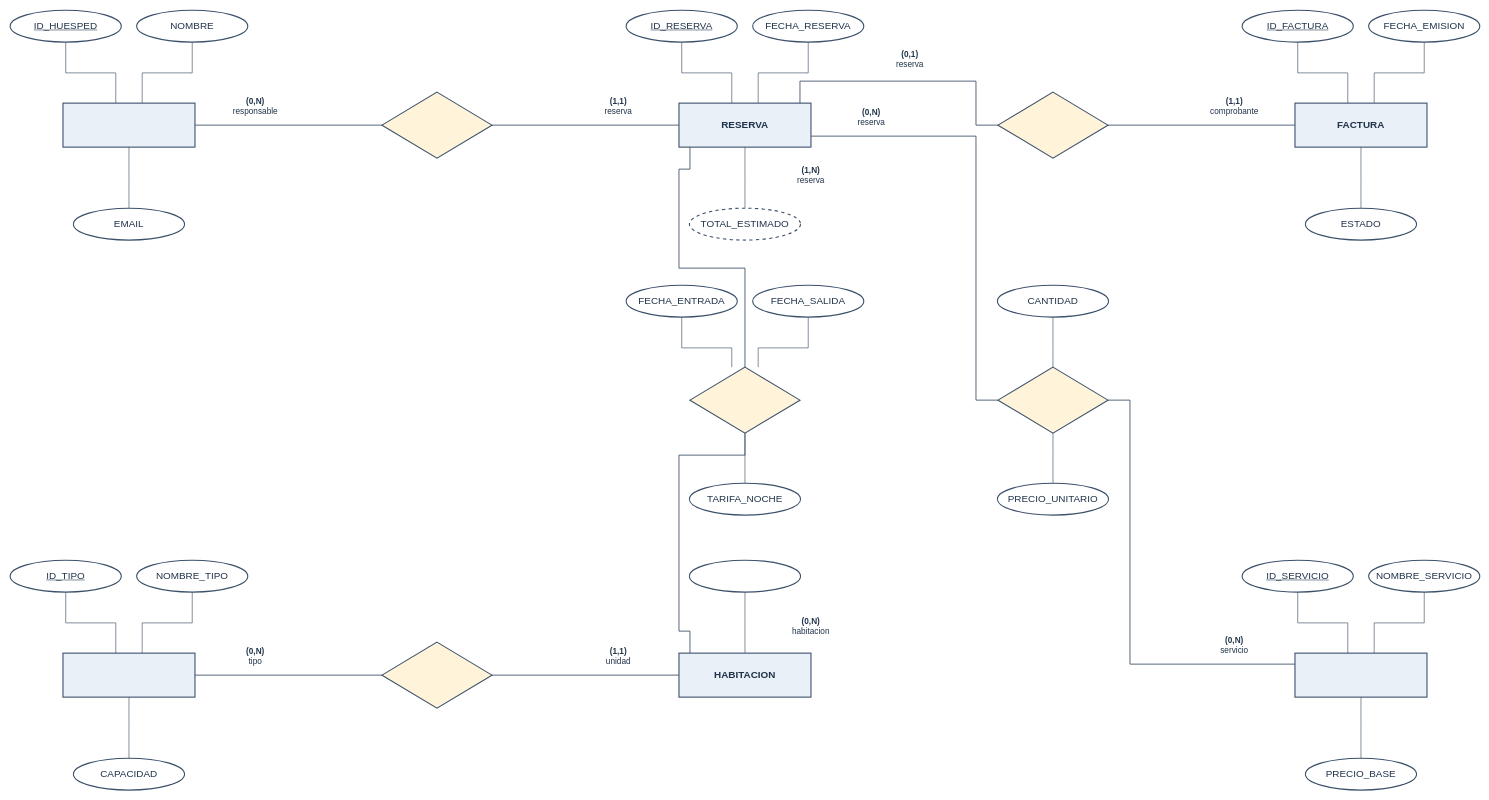
This 1489x800 diagram has some shape labels left out. The centre of each missing label's shape, as x and y in pixels:
"ASIGNA" belongs at (x=744, y=399).
"CLASIFICA" belongs at (x=436, y=674).
"CONSUME" belongs at (x=1052, y=399).
"GENERA" belongs at (x=1052, y=124).
"HUESPED" belongs at (x=128, y=124).
"ID_HABITACION" belongs at (x=745, y=575).
"REALIZA" belongs at (x=436, y=124).
"SERVICIO" belongs at (x=1360, y=674).
"TIPO_HABITACION" belongs at (x=128, y=674).
